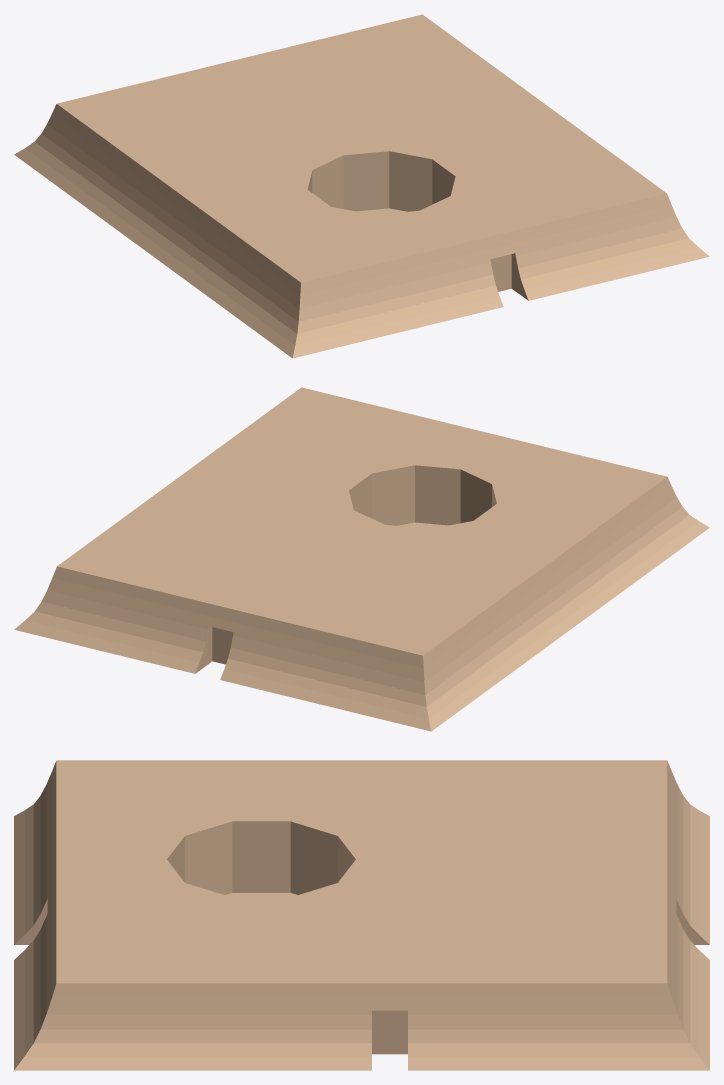
File: village.gltf
The picture shows the model from 3 angles, top to bottom: view 1: azimuth 30°, elevation 25°; view 2: azimuth 150°, elevation 25°; view 3: azimuth 270°, elevation 25°; orthographic projection. The views are drawn at different scales.
Visible parts, largest first — view 1: village; view 2: village; view 3: village.
Part boxes in pixels (x1,y1,x2,y2): village: (14, 14, 709, 358); village: (14, 387, 709, 731); village: (14, 760, 709, 1070).
Bounding box in the file's own units: 131 × 17.26 × 152.
1 material, 1 textured.
